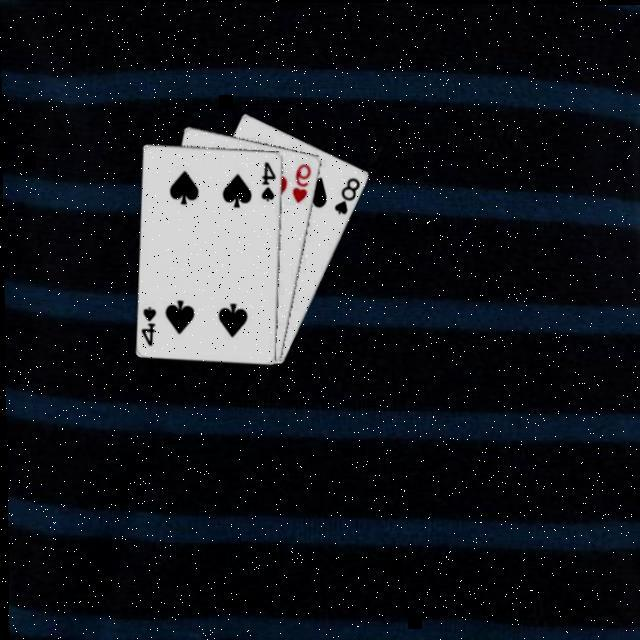4S: (259, 157, 281, 203), (140, 302, 161, 348)
8S: (332, 173, 364, 215)
9H: (291, 160, 316, 204)
